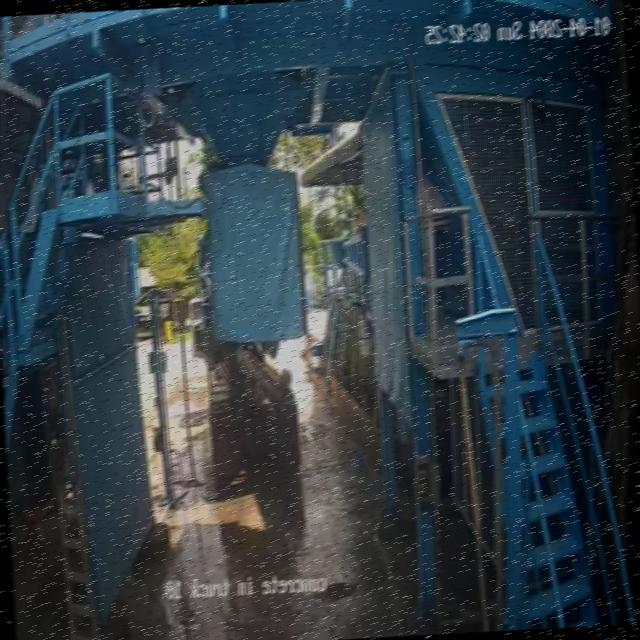cement_mixer_truck: (191, 302, 302, 496)
